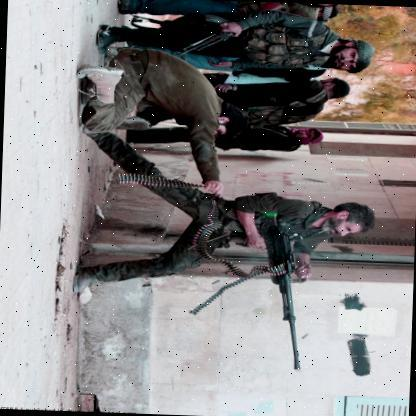rifle: (242, 213, 310, 373), (174, 0, 282, 60)
